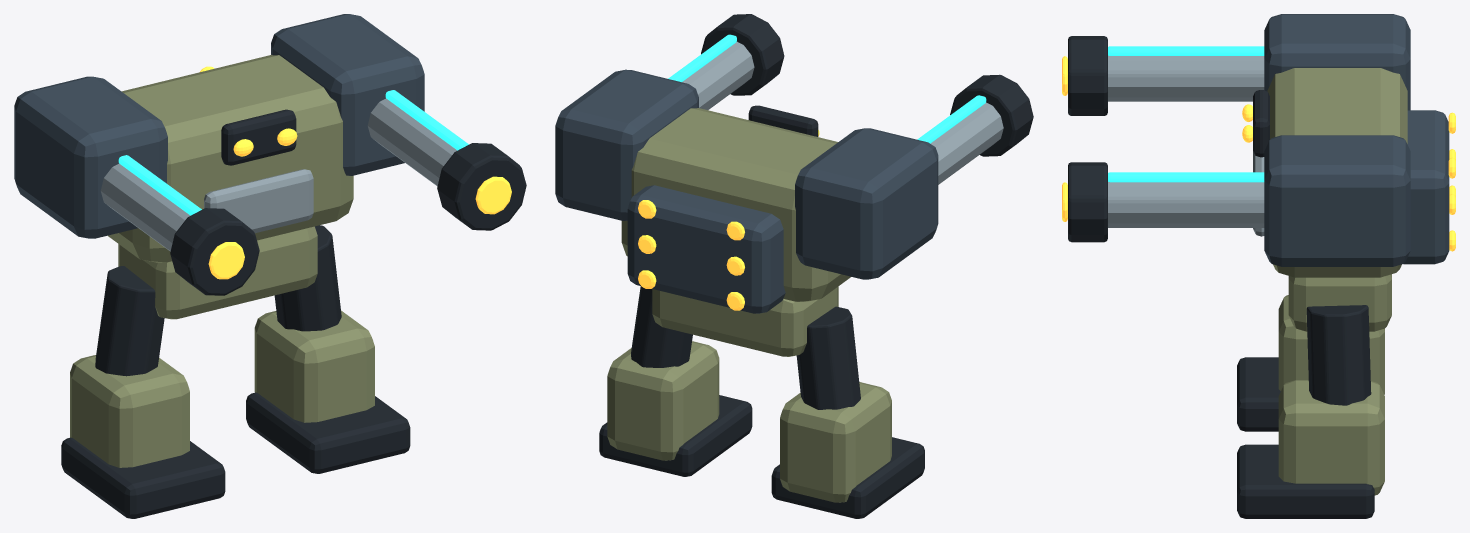
The model's file is mech_dominator.glb.
3 renders of one model, left to right at view 1: azimuth 30°, elevation 25°; view 2: azimuth 150°, elevation 25°; view 3: azimuth 270°, elevation 25°, orthographic. The views are drawn at different scales.
Parts seen in each view (by area): view 1: Siege torso, Shoulder mount, Shoulder mount.001, Armored shin, Armored shin.001, Siege foot, Siege foot.001, Dominator pelvis block, Thick upper leg, Cannon muzzle.001, Cannon muzzle, Reinforced chest plate (+8 smaller); view 2: Shoulder mount, Siege torso, Back ammunition slab, Shoulder mount.001, Armored shin.001, Armored shin, Dominator pelvis block, Thick upper leg, Siege foot.001, Siege foot, Cannon muzzle, Cannon muzzle.001 (+6 smaller); view 3: Shoulder mount.001, Siege torso, Armored shin, Shoulder mount, Siege cannon barrel.001, Siege cannon barrel, Siege foot.001, Back ammunition slab, Thick upper leg.001, Dominator pelvis block, Cannon muzzle, Cannon muzzle.001 (+5 smaller).
Part boxes in pixels (box(x1,y1,x2,y2)): Siege torso: box(108, 54, 353, 262); Shoulder mount: box(14, 76, 167, 238); Shoulder mount.001: box(271, 14, 424, 175); Armored shin: box(254, 310, 374, 422); Armored shin.001: box(70, 355, 189, 467); Siege foot: box(61, 437, 225, 518); Siege foot.001: box(246, 392, 410, 473); Dominator pelvis block: box(118, 226, 317, 319); Thick upper leg: box(95, 266, 164, 376); Cannon muzzle.001: box(170, 208, 259, 295); Cannon muzzle: box(437, 143, 526, 230); Reinforced chest plate: box(204, 169, 313, 233); Shoulder mount: box(795, 128, 938, 279); Siege torso: box(621, 108, 851, 301); Back ammunition slab: box(627, 185, 785, 313); Shoulder mount.001: box(555, 69, 698, 220); Armored shin.001: box(780, 382, 891, 502); Armored shin: box(607, 341, 719, 460); Dominator pelvis block: box(652, 286, 838, 356); Thick upper leg: box(796, 306, 860, 409); Siege foot.001: box(599, 395, 752, 476); Siege foot: box(771, 437, 924, 518); Cannon muzzle: box(701, 14, 784, 95); Cannon muzzle.001: box(950, 74, 1033, 156); Shoulder mount.001: box(1264, 135, 1410, 266); Siege torso: box(1267, 68, 1407, 277); Armored shin: box(1278, 380, 1384, 495); Shoulder mount: box(1264, 14, 1410, 110); Siege cannon barrel.001: box(1108, 182, 1264, 227); Siege cannon barrel: box(1108, 55, 1264, 101); Siege foot.001: box(1237, 444, 1374, 518); Back ammunition slab: box(1403, 110, 1449, 264); Thick upper leg.001: box(1306, 305, 1371, 405); Dominator pelvis block: box(1288, 274, 1391, 331); Cannon muzzle: box(1068, 162, 1107, 242); Cannon muzzle.001: box(1068, 36, 1107, 115).
Bounding box in the file's own units: 2.72 × 2.81 × 2.74.
